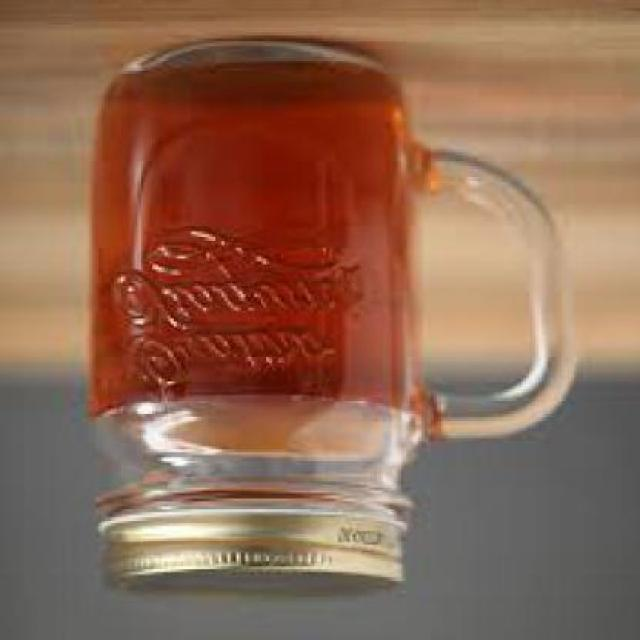BIODEGRADABLE: (90, 66, 407, 454)
GLASS: (90, 43, 568, 523)
METAL: (99, 512, 404, 596)
